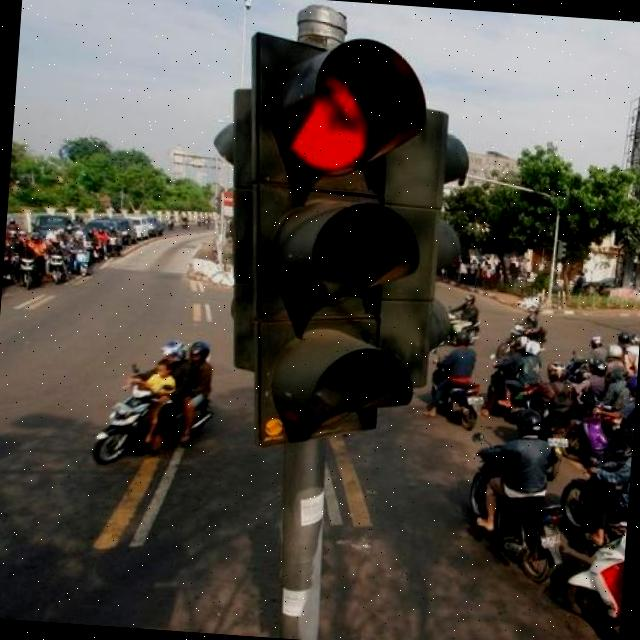red_light: (225, 29, 440, 452)
